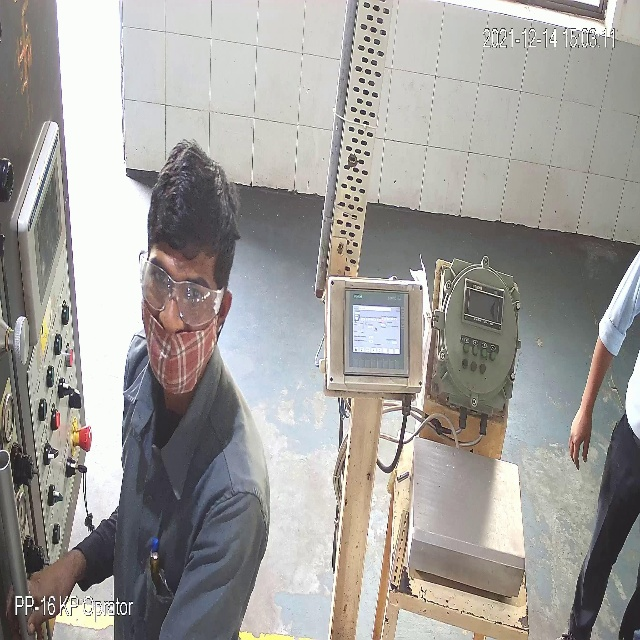Gafas: (137, 262, 220, 328)
Sin_guantes: (567, 331, 624, 483)
